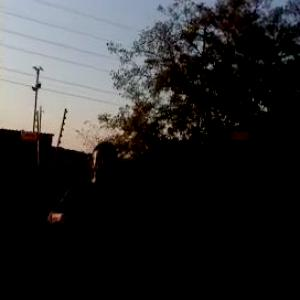follow: (39, 134, 134, 299)
